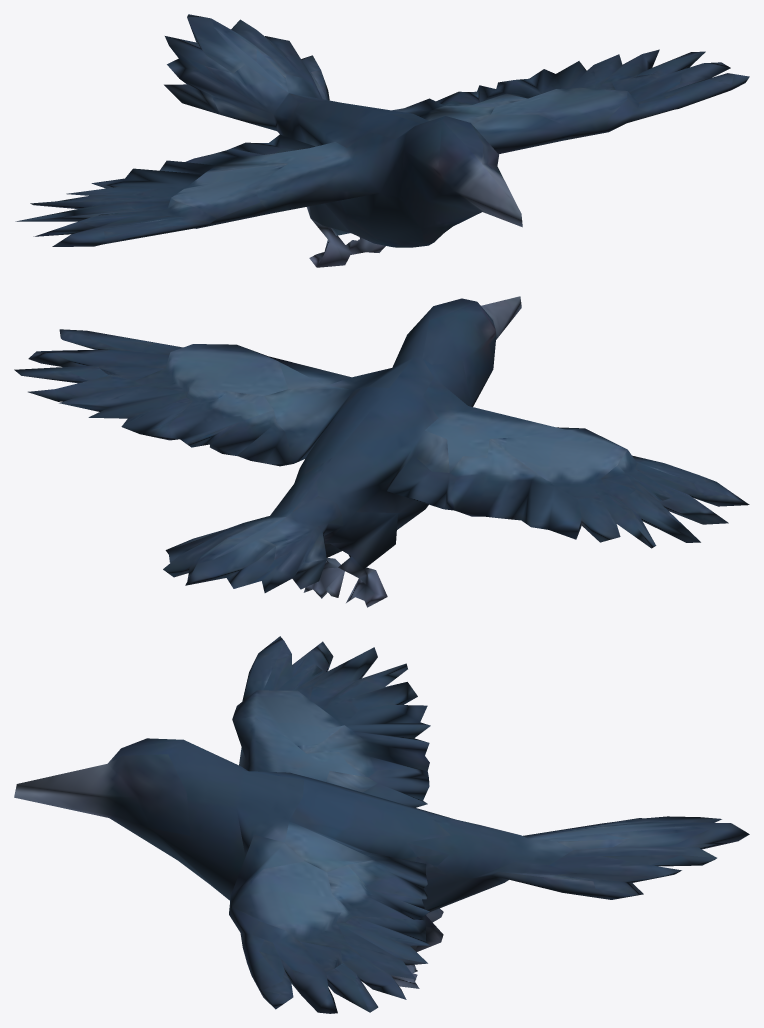
Rendered from bird_crow.glb.
3 renders of one model, top to bottom at view 1: azimuth 30°, elevation 25°; view 2: azimuth 150°, elevation 25°; view 3: azimuth 270°, elevation 25°, orthographic. The views are drawn at different scales.
Parts seen in each view (by area): view 1: tripo_node_1e054c09-e652-4855-8c2b-4fdb7fdf20c5; view 2: tripo_node_1e054c09-e652-4855-8c2b-4fdb7fdf20c5; view 3: tripo_node_1e054c09-e652-4855-8c2b-4fdb7fdf20c5.
Part boxes in pixels (<box>): tripo_node_1e054c09-e652-4855-8c2b-4fdb7fdf20c5: <box>15,14,749,267</box>; tripo_node_1e054c09-e652-4855-8c2b-4fdb7fdf20c5: <box>14,296,749,607</box>; tripo_node_1e054c09-e652-4855-8c2b-4fdb7fdf20c5: <box>14,636,749,1013</box>.
Size of the model in its own units: 0.9705 by 0.284 by 0.8099.
Materials: 1 (1 with a texture image).
